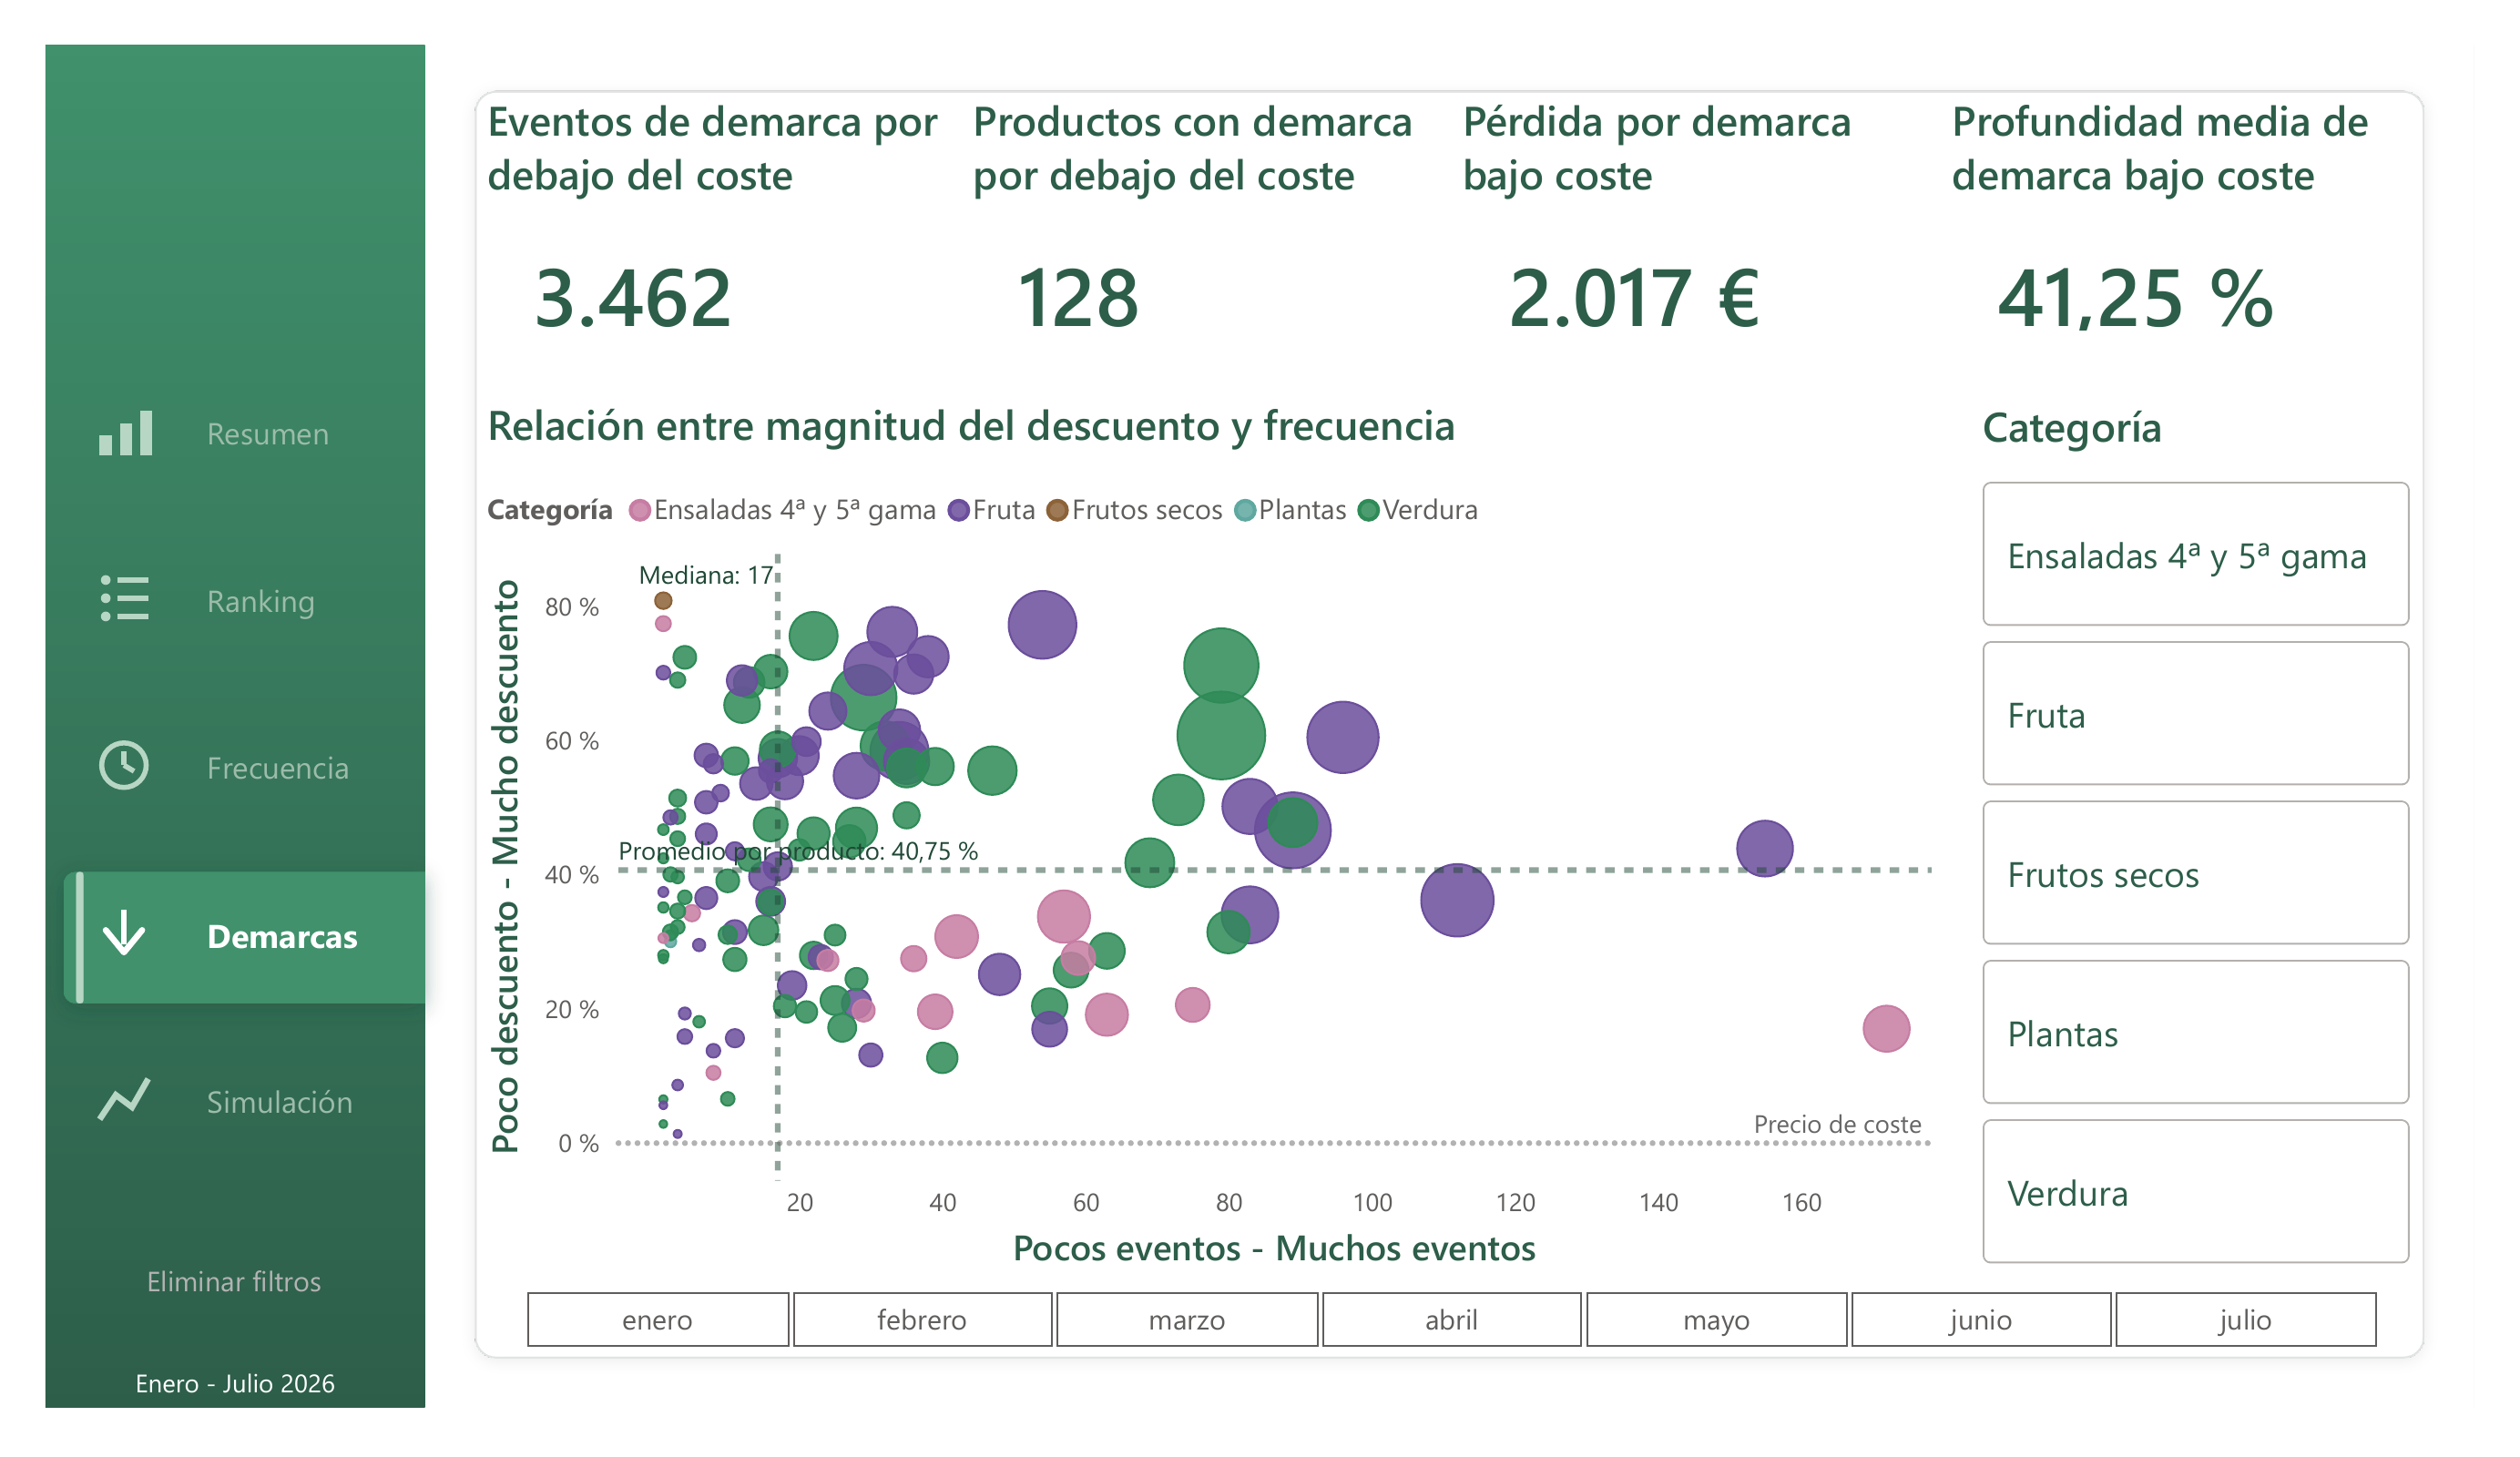

This screenshot's page, from the dashboard's own definition file:
{"tool":"powerbi","page":{"name":"Demarcas","canvas":[1280,720],"ordinal":3},"visuals":[{"type":"cardVisual","title":"Eventos de  demarca por debajo del coste","fields":{"Data":["_Medidas_demarcas_bajocoste.Nº Eventos de demarca bajo coste"]},"box":[228.2,25.5,256.3,141.5],"z":0},{"type":"cardVisual","title":"Productos con demarca por debajo del coste","fields":{"Data":["_Medidas_Rentabilidad.Nº Productos con ventas bajo coste"]},"box":[484.1,24.8,257.6,141.2],"z":1000},{"type":"cardVisual","title":"Pérdida por demarca bajo coste","fields":{"Data":["_Medidas_demarcas_bajocoste.Pérdida por demarca bajo coste (€)"]},"box":[742.2,25.1,256.3,140.7],"z":2000},{"type":"cardVisual","title":"Profundidad media de demarca bajo coste","fields":{"Data":["_Medidas_demarcas_bajocoste.Profundidad media de demarca bajo coste (%)"]},"box":[999.5,25.5,253.7,141.5],"z":3000},{"type":"scatterChart","title":"Relación entre magnitud del descuento y frecuencia","fields":{"Category":["Productos.nombre"],"Size":["_Medidas_Rentabilidad.Impacto por venta bajo coste"],"Series":["Productos.Categoría"],"X":["_Medidas_demarcas_bajocoste.Nº Eventos de demarca bajo coste"],"Y":["_Medidas_demarcas_bajocoste.Profundidad media de demarca bajo coste (%)"]},"box":[227.5,185,782.5,465],"z":4000},{"type":"actionButton","box":[0,185.7,200,47.1],"z":5000},{"type":"actionButton","box":[0,267.1,200,52.9],"z":6000},{"type":"actionButton","box":[0,355.7,200,52.9],"z":7000},{"type":"actionButton","box":[0,532.9,200,47.1],"z":8000},{"type":"textbox","box":[0,688.9,200,31.4],"z":9000},{"type":"advancedSlicerVisual","fields":{"Values":["Productos.Categoría"]},"box":[1016.2,186.2,235,463.8],"z":10000},{"type":"slicer","fields":{"Values":["Calendario.Nombre Mes"]},"box":[227.5,650,1025,41.2],"z":11000},{"type":"actionButton","box":[23.8,627.5,151.2,45],"z":12000}]}

Visuals, with their boxes on the page's 1280x720 design canvas (x1, y1, x2, y2). These are canvas units, not pixel positions in the 2520x1457 screenshot, which may show the page scaled, cropped or inside an application window:
"Eventos de  demarca por debajo del coste" cardVisual: <region>228, 26, 484, 167</region>
"Productos con demarca por debajo del coste" cardVisual: <region>484, 25, 742, 166</region>
"Pérdida por demarca bajo coste" cardVisual: <region>742, 25, 998, 166</region>
"Profundidad media de demarca bajo coste" cardVisual: <region>1000, 26, 1253, 167</region>
"Relación entre magnitud del descuento y frecuencia" scatterChart: <region>228, 185, 1010, 650</region>
actionButton: <region>0, 186, 200, 233</region>
actionButton: <region>0, 267, 200, 320</region>
actionButton: <region>0, 356, 200, 409</region>
actionButton: <region>0, 533, 200, 580</region>
textbox: <region>0, 689, 200, 720</region>
advancedSlicerVisual - Productos.Categoría: <region>1016, 186, 1251, 650</region>
slicer - Calendario.Nombre Mes: <region>228, 650, 1252, 691</region>
actionButton: <region>24, 628, 175, 672</region>
